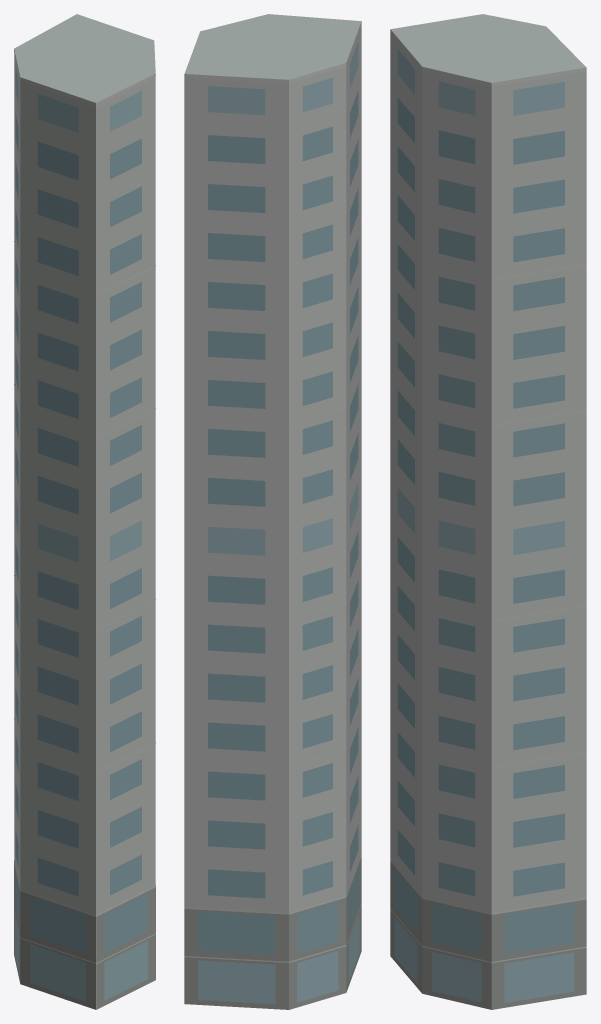
The model's file is survey-upis-32974915.glb.
3 renders of one model, left to right at view 1: azimuth 30°, elevation 25°; view 2: azimuth 150°, elevation 25°; view 3: azimuth 270°, elevation 25°, orthographic. The views are drawn at different scales.
Visible parts, largest first — view 1: survey-upis-32974915.tmp; view 2: survey-upis-32974915.tmp; view 3: survey-upis-32974915.tmp.
Boxes of the visible parts, x1,y1,x2,y2 form: survey-upis-32974915.tmp: (14,14,155,1009); survey-upis-32974915.tmp: (184,14,361,1009); survey-upis-32974915.tmp: (390,14,586,1009).
Bounding box in the file's own units: 9.27 × 57.95 × 11.14.
